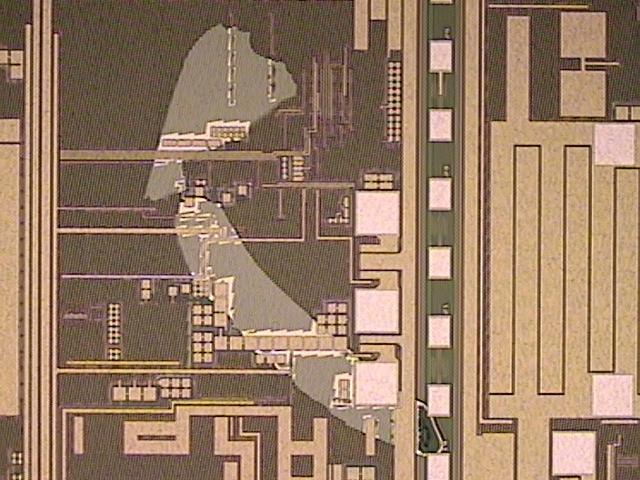BLOCK ETCH: (130, 19, 457, 469)
